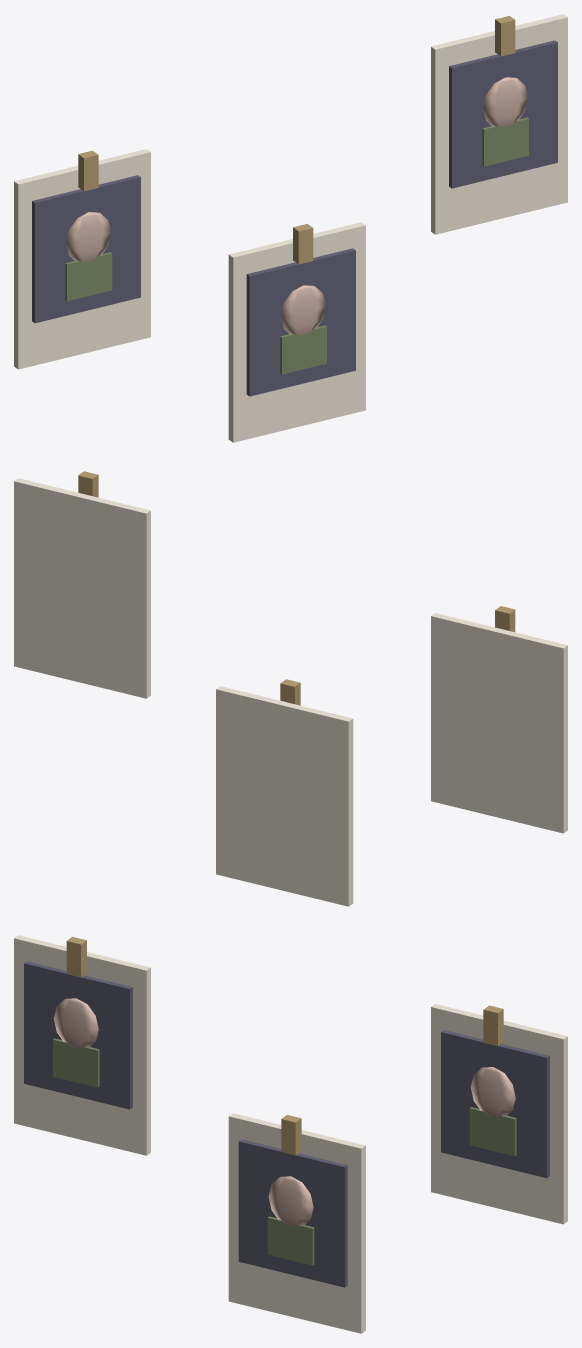
Rendered from bedroom_ref_photo_string.glb.
3 views of the same model, one above another, from view 1: azimuth 30°, elevation 25°; view 2: azimuth 150°, elevation 25°; view 3: azimuth 330°, elevation 25° (orthographic).
Bounding box in the file's own units: 0.87 × 0.545 × 0.03.
